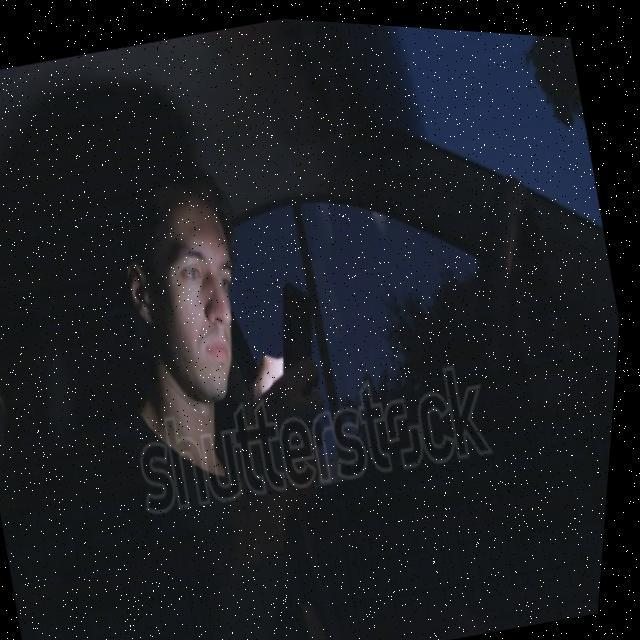PhoneCall: (265, 269, 342, 412)
